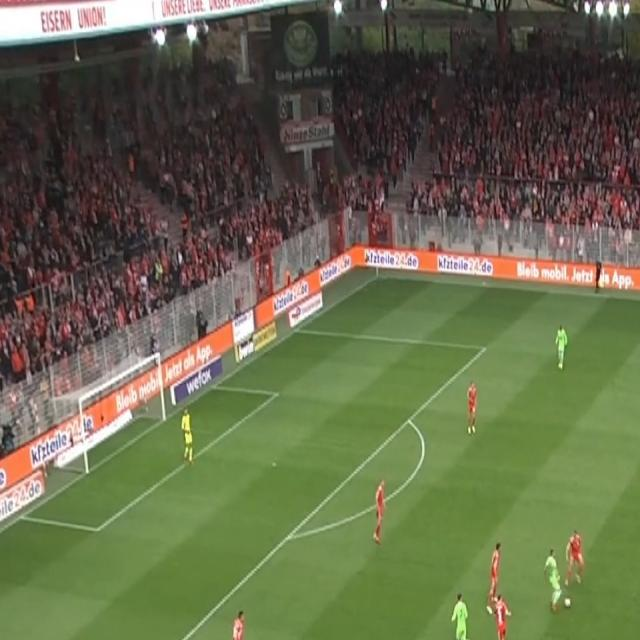ball: (564, 594, 571, 610)
